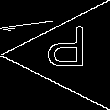P_S: (52, 30, 95, 80)
